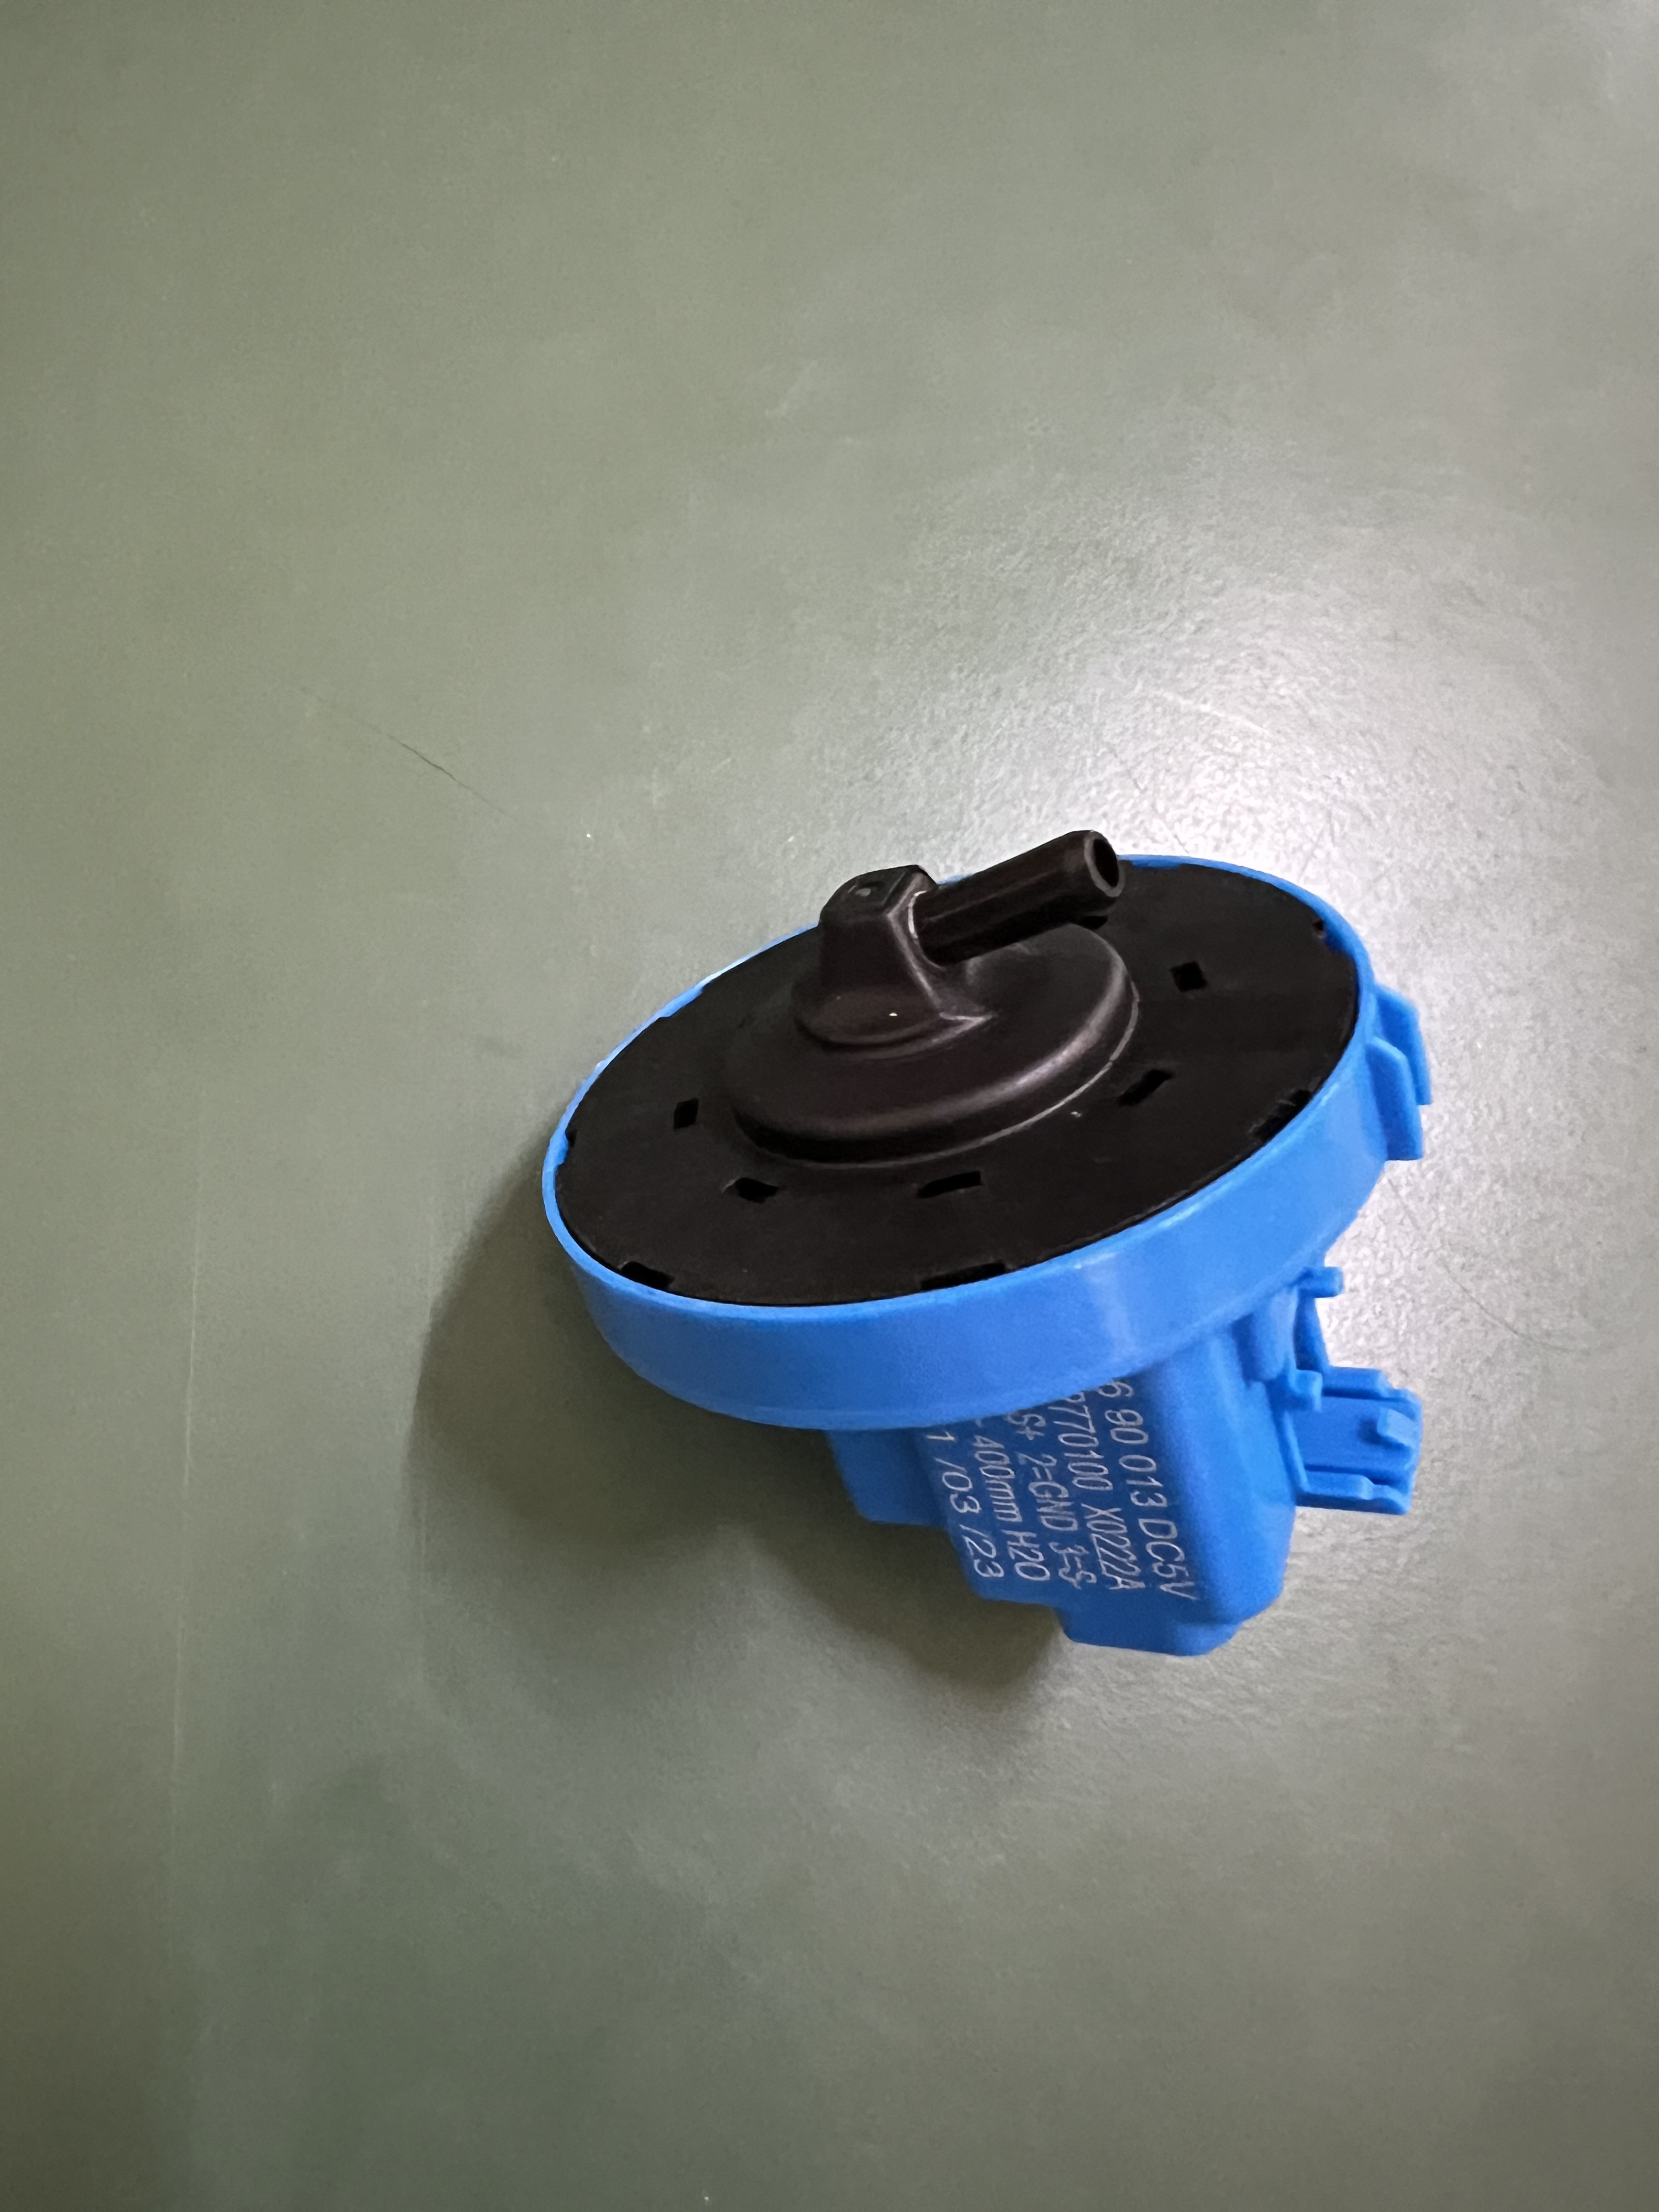voltas_beko_pressure_switch: (528, 787, 1457, 1663)
